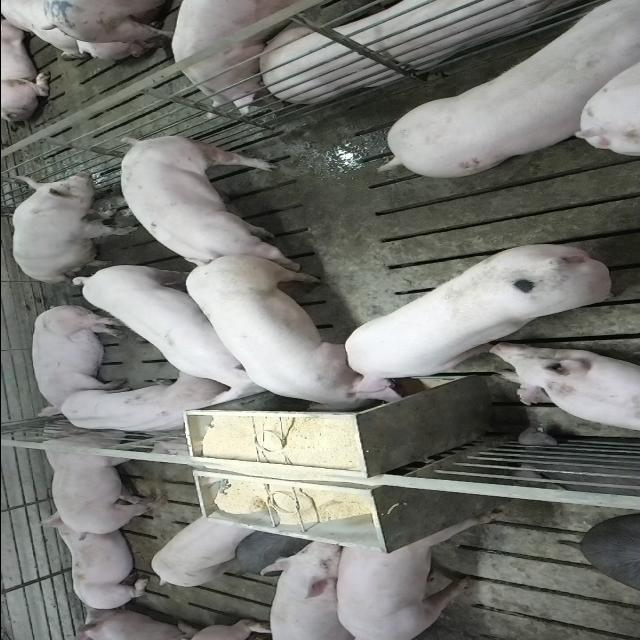Feeding: (338, 242, 615, 402), (175, 258, 381, 420)
Lateral_lying: (254, 0, 606, 102), (28, 302, 127, 418)
Sitting: (8, 170, 132, 284)
Standing: (374, 5, 634, 182), (66, 261, 284, 398), (113, 130, 309, 262), (337, 506, 506, 638), (34, 421, 175, 539), (168, 0, 302, 116), (257, 538, 377, 640), (151, 514, 257, 588)
Sternal_lying: (489, 344, 640, 434), (36, 518, 154, 612), (54, 375, 229, 437)
